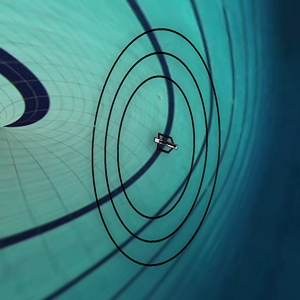circle: (78, 6, 233, 278)
submarine: (142, 123, 183, 166)
